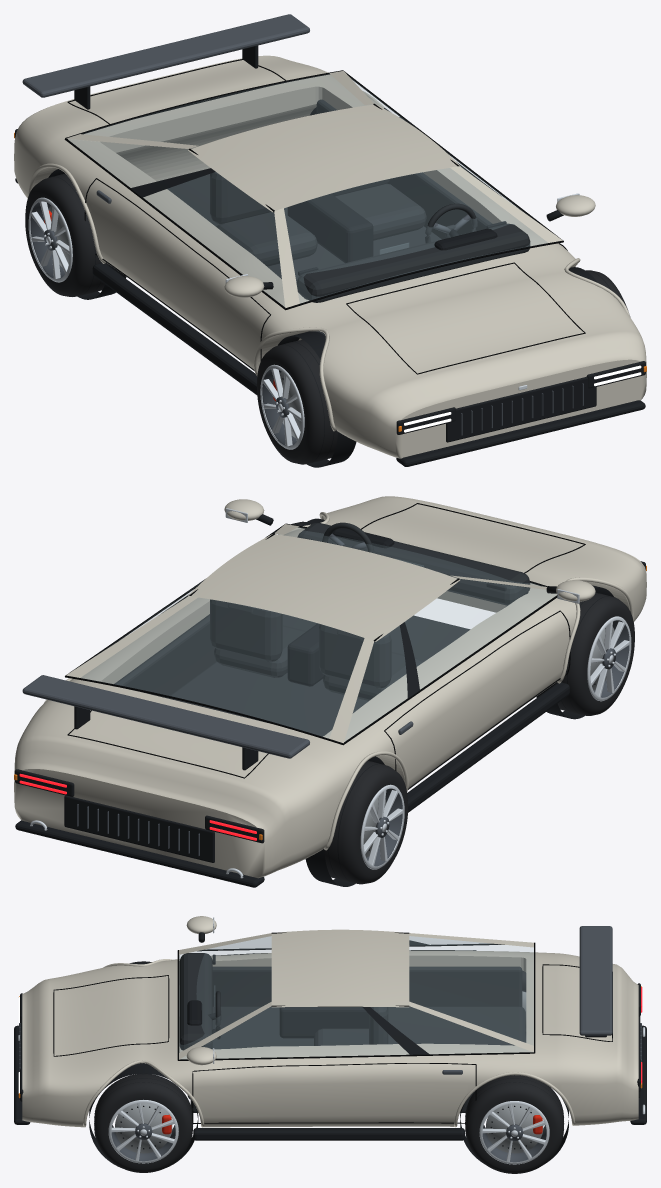
Rendered from zenith.glb.
3 renders of one model, top to bottom at view 1: azimuth 30°, elevation 25°; view 2: azimuth 150°, elevation 25°; view 3: azimuth 270°, elevation 25°, orthographic. The views are drawn at different scales.
Parts seen in each view (by area): view 1: Sculpted body shell.023, Windshield.023, Painted roof.023, Side glass.046, Rear glass.023, Rear aero wing.008, Interior dashboard.023, Tire.094, Front grille housing.023, Tire.092, Interior centre console.023, Rocker aero sill.046 (+28 smaller); view 2: Sculpted body shell.023, Rear glass.023, Painted roof.023, Side glass.046, Interior cabin floor.023, Rear aero wing.008, Rear diffuser grille.023, Tire.092, Interior dashboard.023, Tire.094, Interior door card.047, Interior seat back.073 (+26 smaller); view 3: Sculpted body shell.023, Side glass.047, Rear glass.023, Painted roof.023, Interior cabin floor.023, Interior door card.046, Windshield.023, Tire.093, Tire.095, Rear aero wing.008, Rocker aero sill.047, Interior dashboard.023 (+29 smaller).
Part boxes in pixels (x1=…): Sculpted body shell.023: x1=14, y1=55, x2=646, y2=458; Windshield.023: x1=284, y1=168, x2=547, y2=302; Painted roof.023: x1=195, y1=105, x2=452, y2=209; Side glass.046: x1=69, y1=139, x2=284, y2=306; Rear glass.023: x1=84, y1=74, x2=371, y2=145; Rear aero wing.008: x1=22, y1=14, x2=309, y2=97; Interior dashboard.023: x1=296, y1=223, x2=530, y2=302; Tire.094: x1=257, y1=340, x2=337, y2=464; Front grille housing.023: x1=446, y1=377, x2=596, y2=442; Tire.092: x1=25, y1=173, x2=108, y2=296; Interior centre console.023: x1=287, y1=193, x2=373, y2=263; Rocker aero sill.046: x1=92, y1=263, x2=257, y2=394; Sculpted body shell.023: x1=14, y1=496, x2=646, y2=878; Rear glass.023: x1=81, y1=598, x2=363, y2=737; Painted roof.023: x1=194, y1=535, x2=453, y2=638; Side glass.046: x1=344, y1=580, x2=556, y2=741; Interior cabin floor.023: x1=167, y1=614, x2=470, y2=736; Rear aero wing.008: x1=22, y1=675, x2=309, y2=758; Rear diffuser grille.023: x1=64, y1=795, x2=214, y2=862; Tire.092: x1=324, y1=761, x2=407, y2=884; Interior dashboard.023: x1=297, y1=523, x2=530, y2=605; Tire.094: x1=554, y1=592, x2=634, y2=715; Interior door card.047: x1=114, y1=614, x2=216, y2=698; Interior seat back.073: x1=210, y1=599, x2=282, y2=661; Sculpted body shell.023: x1=22, y1=950, x2=638, y2=1127; Side glass.047: x1=182, y1=1007, x2=529, y2=1058; Rear glass.023: x1=409, y1=936, x2=533, y2=1045; Painted roof.023: x1=271, y1=930, x2=409, y2=1006; Interior cabin floor.023: x1=187, y1=1006, x2=525, y2=1099; Interior door card.046: x1=212, y1=966, x2=522, y2=1006; Windshield.023: x1=179, y1=936, x2=271, y2=1052; Tire.093: x1=465, y1=1075, x2=564, y2=1173; Tire.095: x1=94, y1=1073, x2=193, y2=1172; Rear aero wing.008: x1=579, y1=926, x2=612, y2=1035; Rocker aero sill.047: x1=193, y1=1128, x2=464, y2=1140; Interior dashboard.023: x1=179, y1=953, x2=212, y2=1050.
Size of the model in its own units: 2.49 by 1.22 by 4.6.
